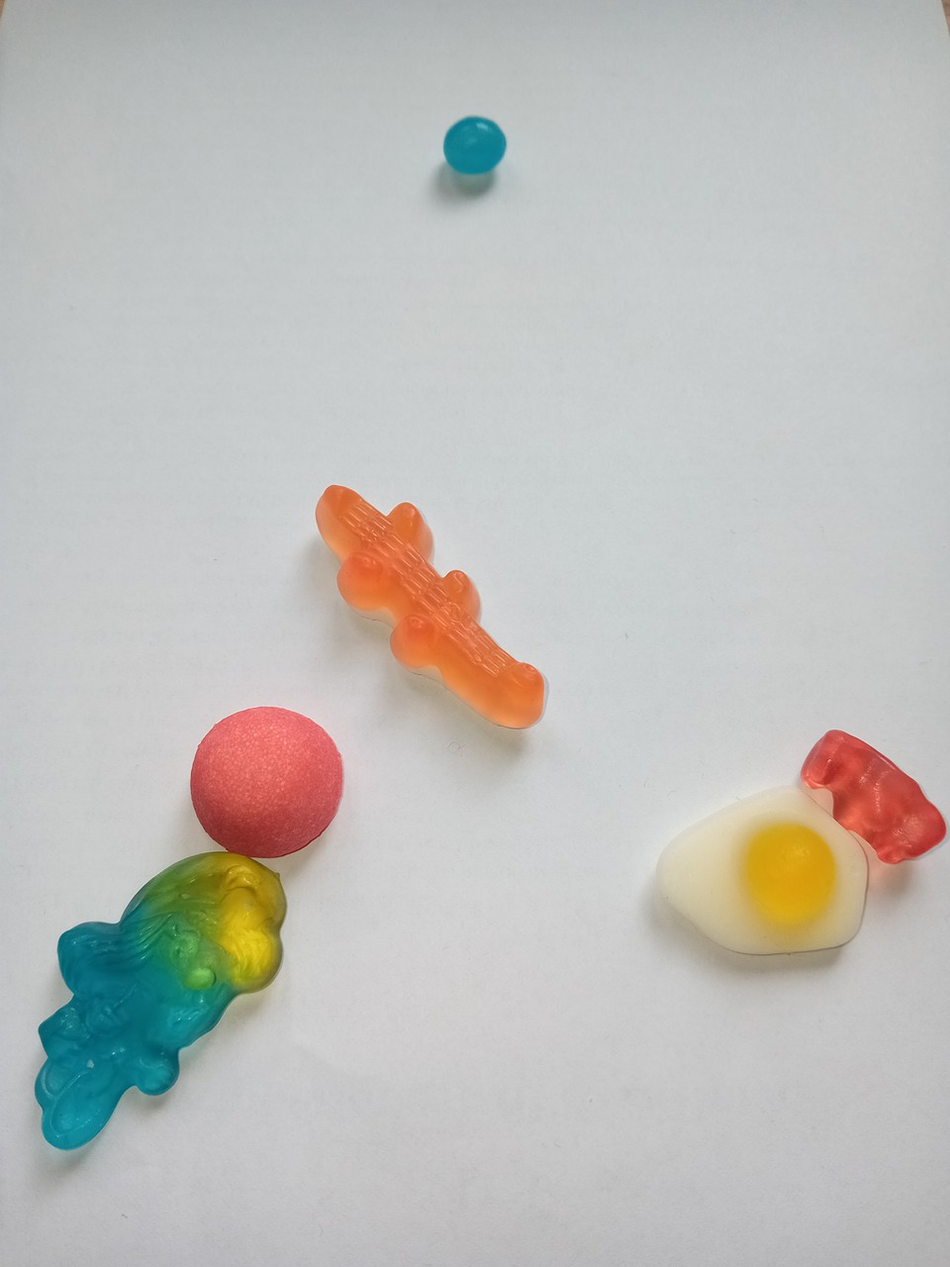crocodile_orange: (306, 479, 551, 734)
dragibus_bleu: (439, 108, 509, 182)
oeuf_oeuf: (648, 783, 873, 959)
ourson_orangeFonce: (799, 727, 948, 867)
schtroumpf_bleu-jaune: (23, 848, 291, 1161)
tagada_fraise: (185, 700, 349, 858)
